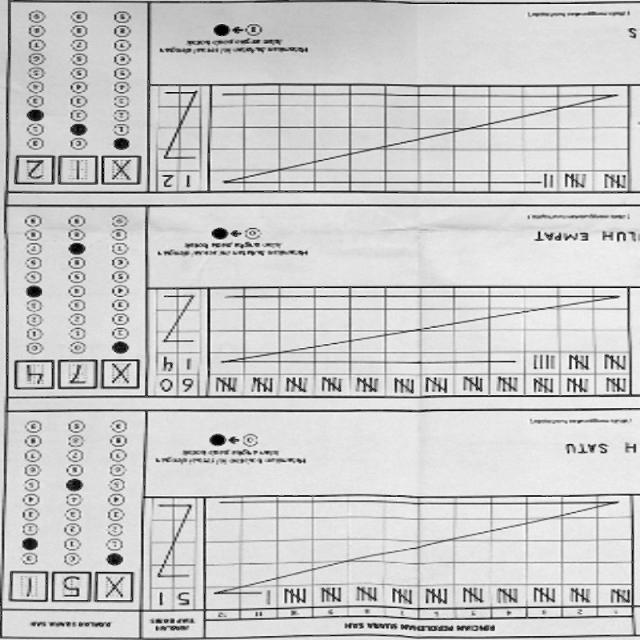Suara: (10, 150, 145, 192), (7, 567, 142, 609), (13, 355, 147, 397)
